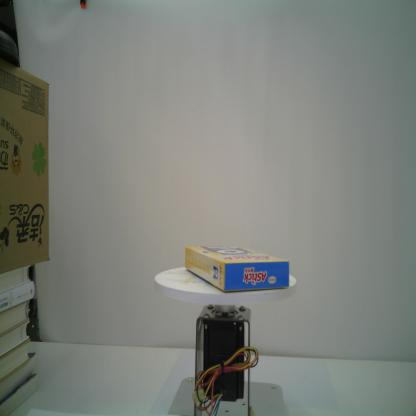Dessert: (183, 242, 290, 296)
